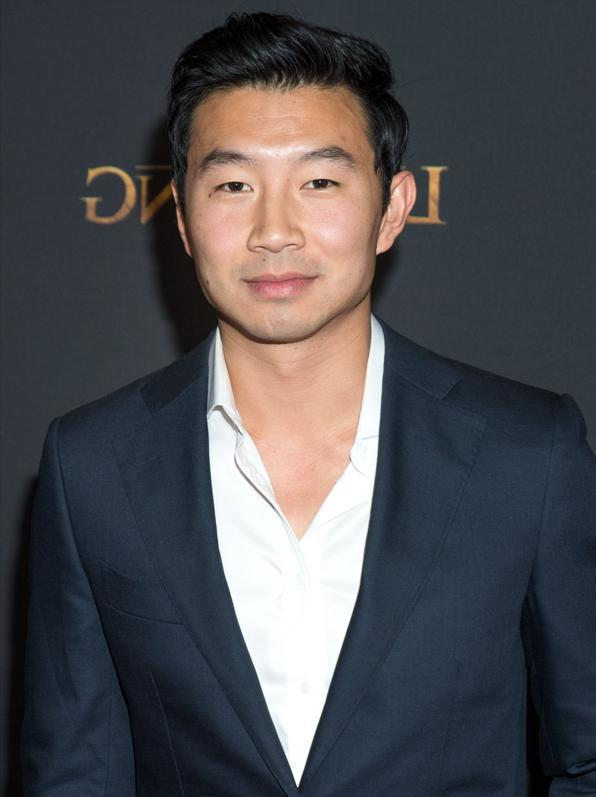Sober: (189, 94, 375, 320)
